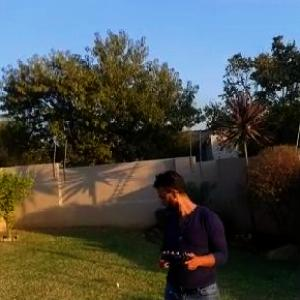follow: (151, 164, 232, 299)
